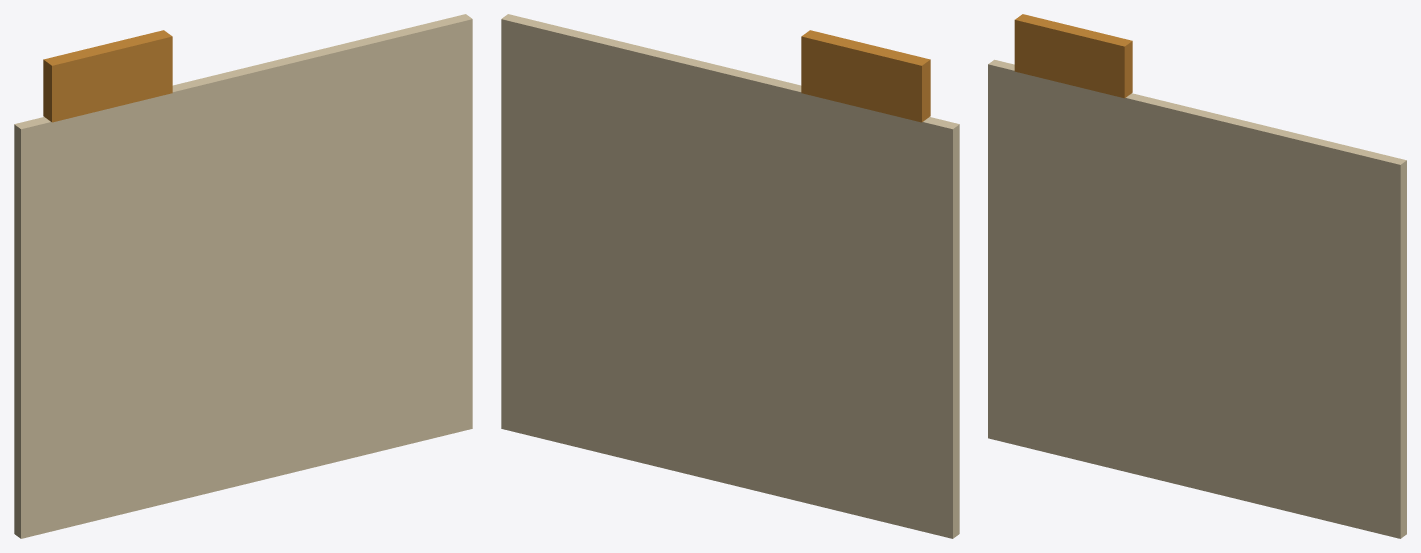
File: Prop_YTM_SongCard_LOD1.glb
3 views of the same model, side by side, from view 1: azimuth 30°, elevation 25°; view 2: azimuth 150°, elevation 25°; view 3: azimuth 330°, elevation 25° (orthographic). The views are drawn at different scales.
Visible parts, largest first — view 1: Prop_YTM_SongCard; view 2: Prop_YTM_SongCard; view 3: Prop_YTM_SongCard.
Boxes of the visible parts, bbox=[...] form: Prop_YTM_SongCard: bbox=[14, 14, 472, 538]; Prop_YTM_SongCard: bbox=[501, 14, 959, 538]; Prop_YTM_SongCard: bbox=[988, 14, 1406, 538].
Bounding box in the file's own units: 0.15 × 0.148 × 0.005.
